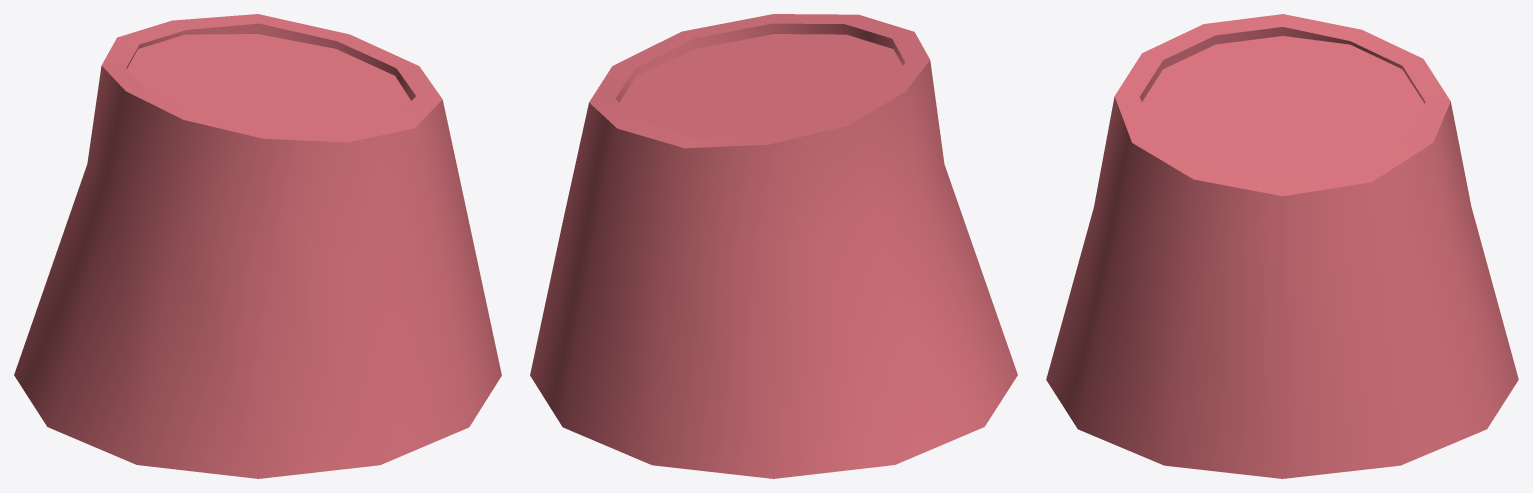
File: GeoTreeStump01.fbx
The picture shows the model from 3 angles, left to right: view 1: azimuth 30°, elevation 25°; view 2: azimuth 150°, elevation 25°; view 3: azimuth 270°, elevation 25°; orthographic projection. The views are drawn at different scales.
Parts seen in each view (by area): view 1: GeoTreeStump01_LOD0; view 2: GeoTreeStump01_LOD0; view 3: GeoTreeStump01_LOD0.
Part boxes in pixels (x1,y1,x2,y2): GeoTreeStump01_LOD0: (14,14,501,478); GeoTreeStump01_LOD0: (530,14,1017,478); GeoTreeStump01_LOD0: (1046,14,1518,478).
Size of what is drawn, in the model's own units: 67.32 by 48.24 by 67.88.
